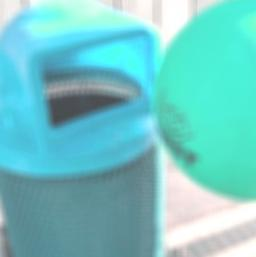algae: (152, 0, 256, 199)
